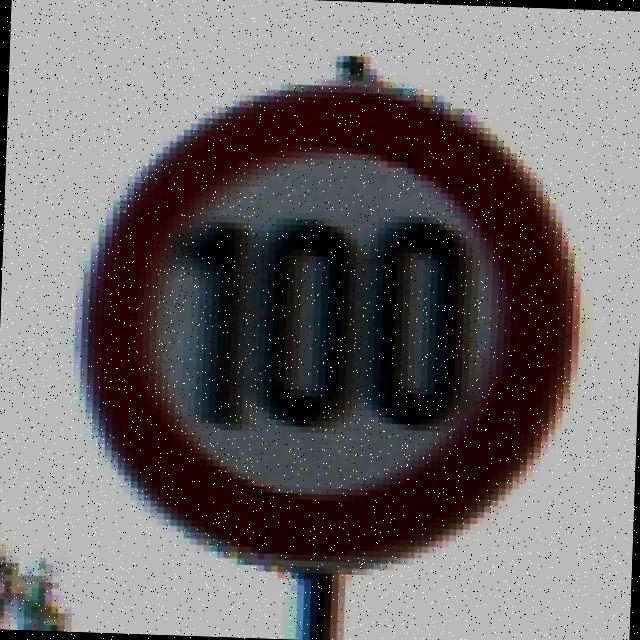Ograniczenie predkosci do 100: (67, 76, 582, 580)
